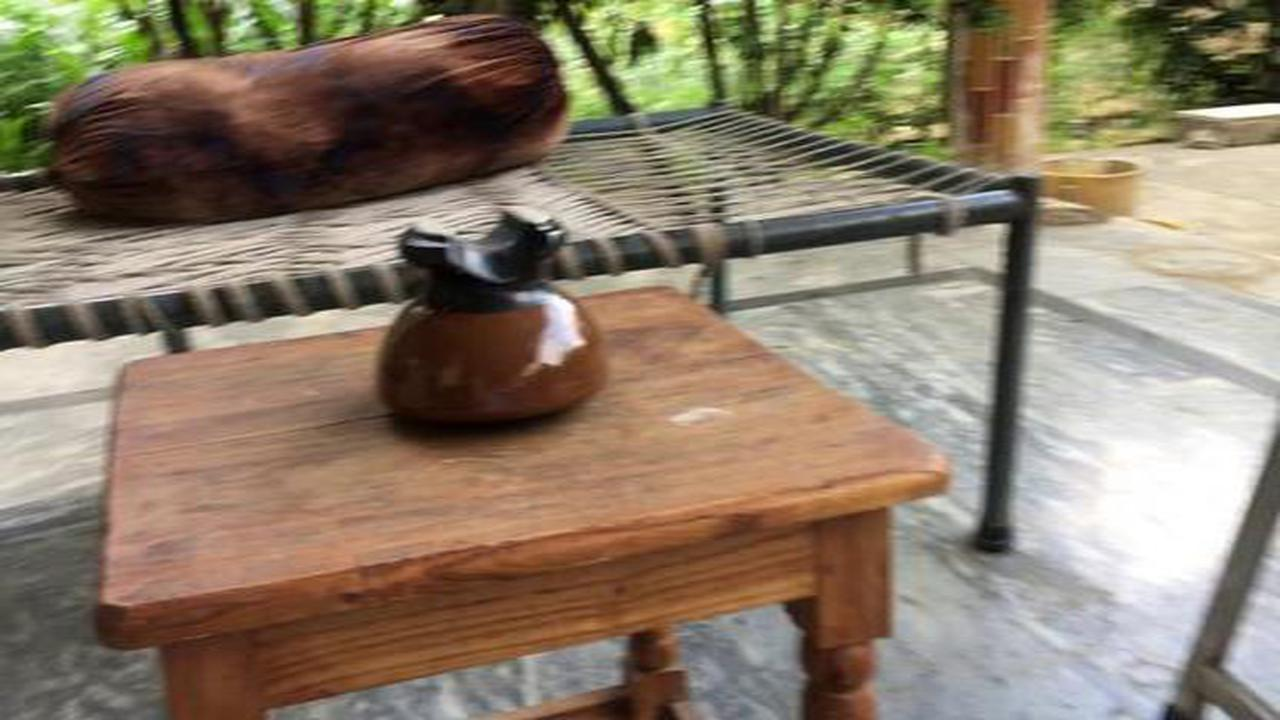insulator_pin: (361, 193, 628, 445)
